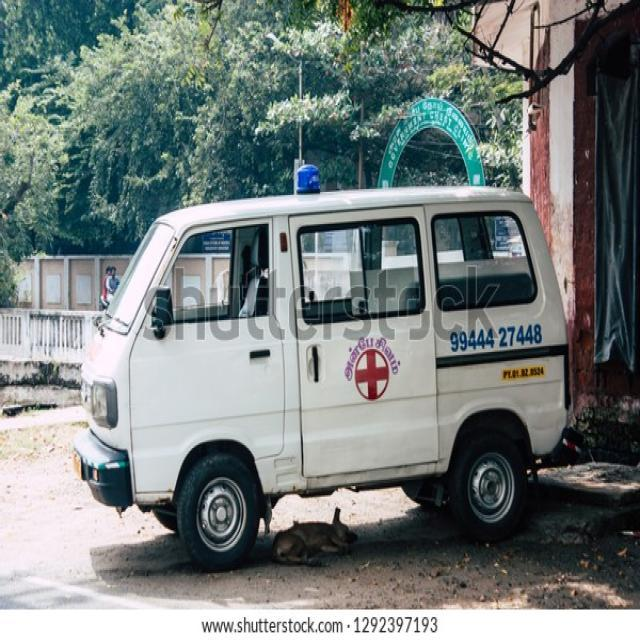ambulance: (74, 162, 566, 553)
